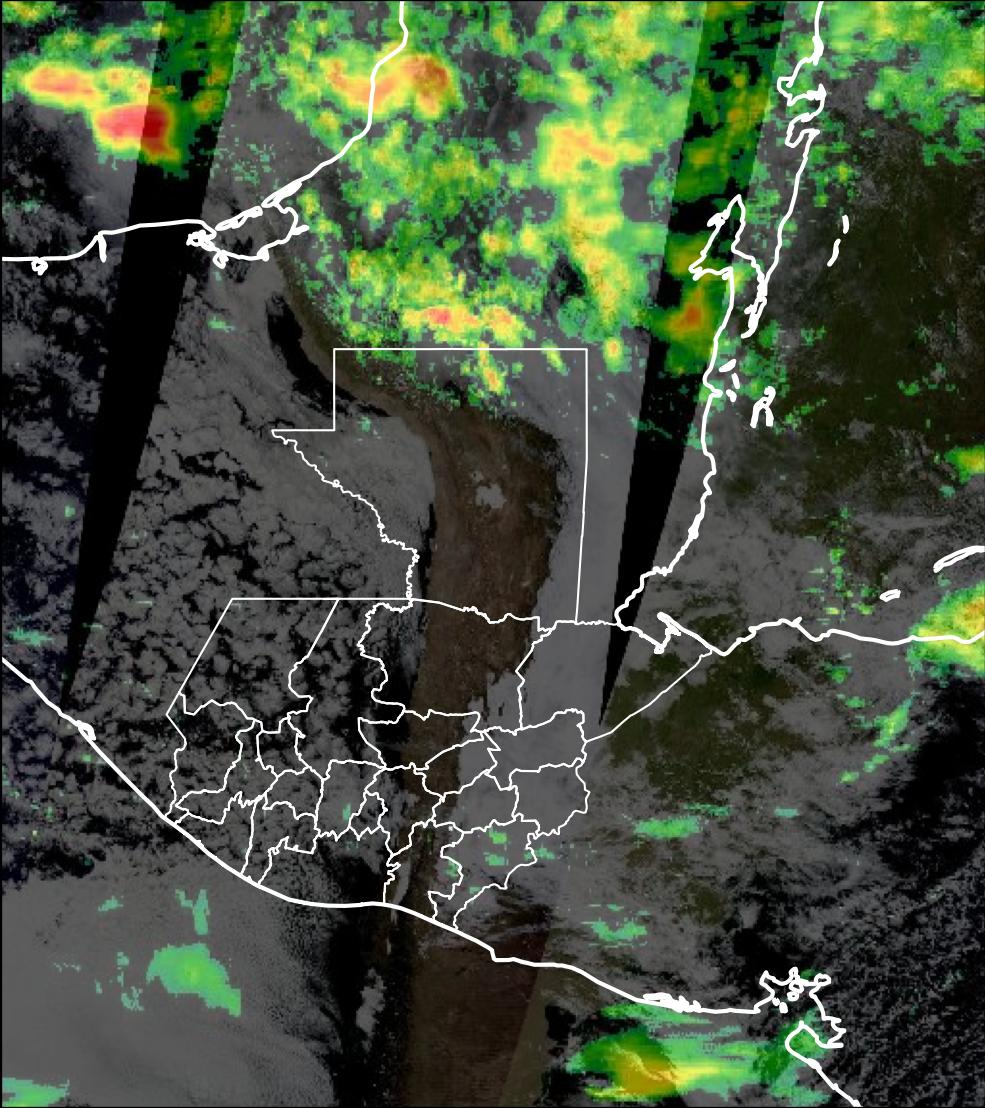precipitacion: (29, 51, 186, 175)
